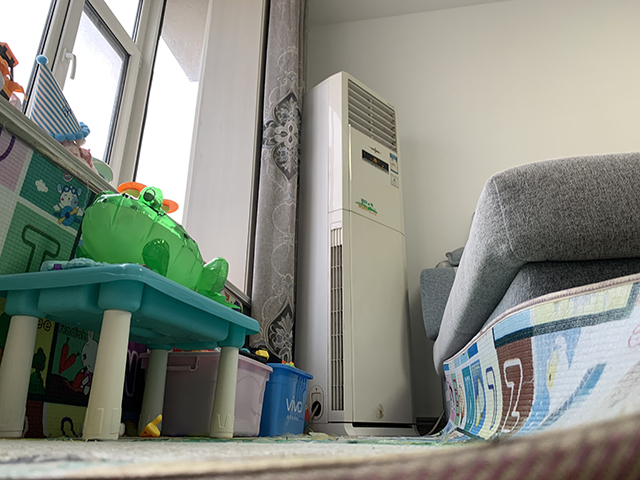carpet: (1, 271, 640, 480)
table: (1, 261, 262, 442)
